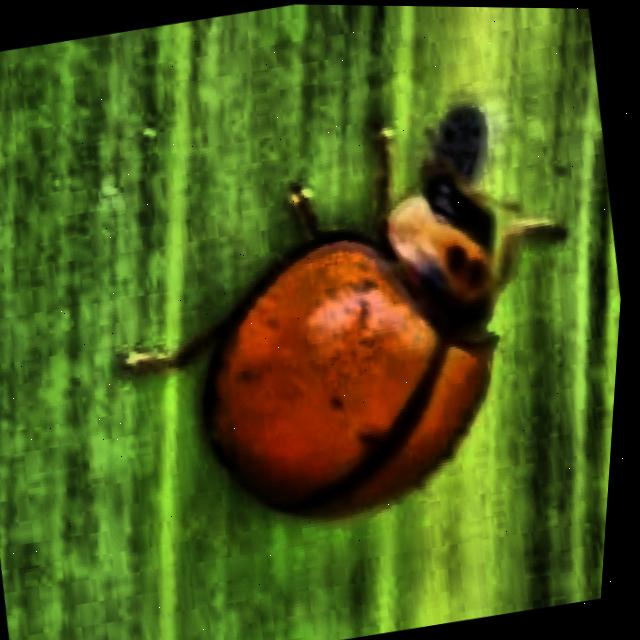Ladybug: (68, 68, 613, 589)
